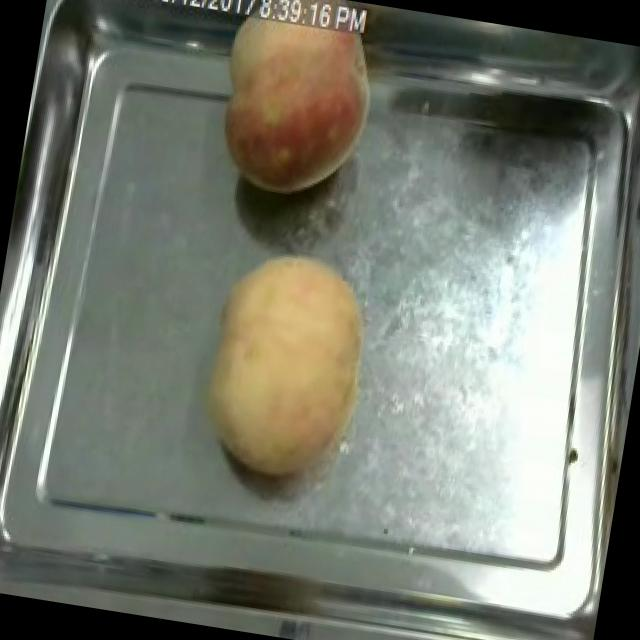Fruit: (183, 236, 390, 496), (204, 10, 392, 214)
